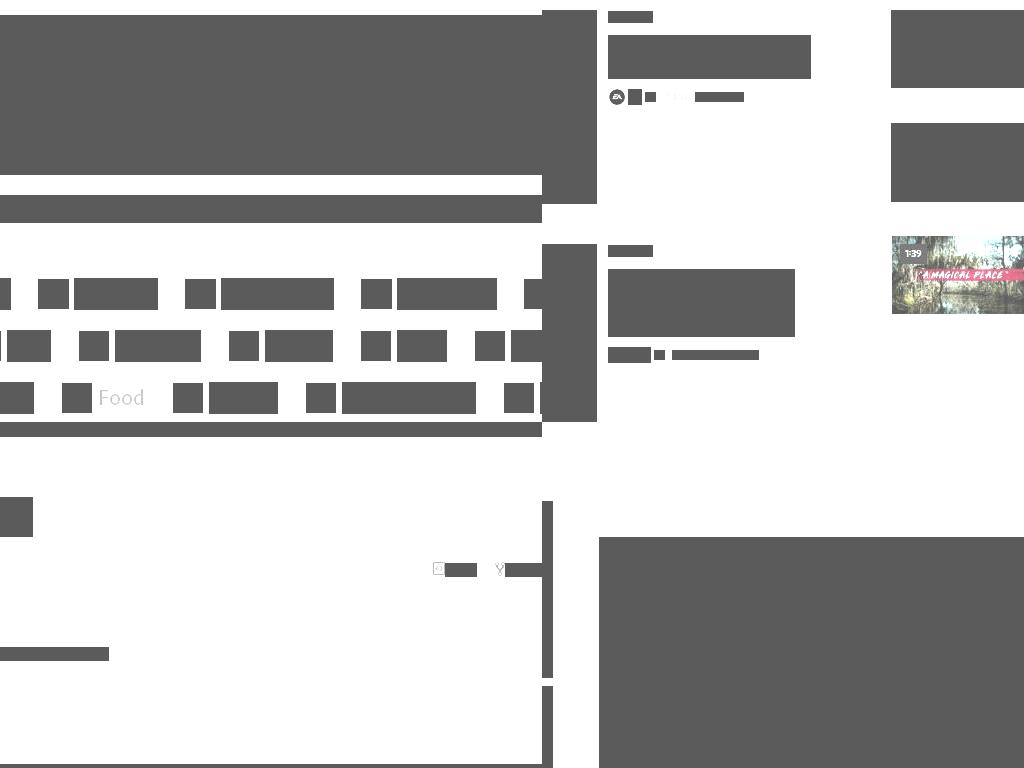button: (891, 123, 1024, 202), (891, 236, 1024, 315), (891, 10, 1024, 88), (0, 497, 33, 537), (608, 347, 651, 363), (608, 89, 642, 105)
heading: (0, 15, 542, 175), (0, 195, 542, 223)
image: (599, 537, 1024, 768), (891, 123, 1024, 202), (891, 236, 1024, 315), (891, 10, 1024, 88), (38, 279, 69, 309), (185, 279, 216, 309), (361, 279, 392, 309), (79, 331, 109, 361), (229, 331, 259, 361), (361, 331, 391, 361), (475, 331, 505, 361), (62, 383, 92, 413), (173, 383, 203, 413), (306, 383, 336, 413), (504, 383, 534, 413), (524, 279, 542, 309), (608, 89, 625, 105), (608, 347, 625, 363), (645, 92, 656, 102), (654, 350, 665, 360)
link: (608, 269, 795, 337), (608, 35, 811, 79)
text: (0, 422, 542, 437), (342, 382, 476, 414), (221, 278, 334, 310), (397, 278, 497, 310), (115, 330, 201, 362), (74, 278, 158, 310), (209, 382, 278, 414), (265, 330, 333, 362), (397, 330, 447, 362), (98, 382, 145, 414), (0, 647, 102, 661), (7, 330, 51, 362), (0, 382, 34, 414), (511, 330, 542, 362), (899, 131, 932, 152), (899, 18, 930, 38), (899, 244, 927, 265), (704, 350, 759, 360), (608, 11, 653, 23), (608, 245, 653, 257), (505, 563, 542, 577), (695, 92, 744, 102), (445, 563, 477, 577), (628, 347, 651, 363), (663, 92, 696, 102), (672, 350, 705, 360), (0, 509, 17, 525), (628, 89, 642, 105), (101, 647, 109, 661)
